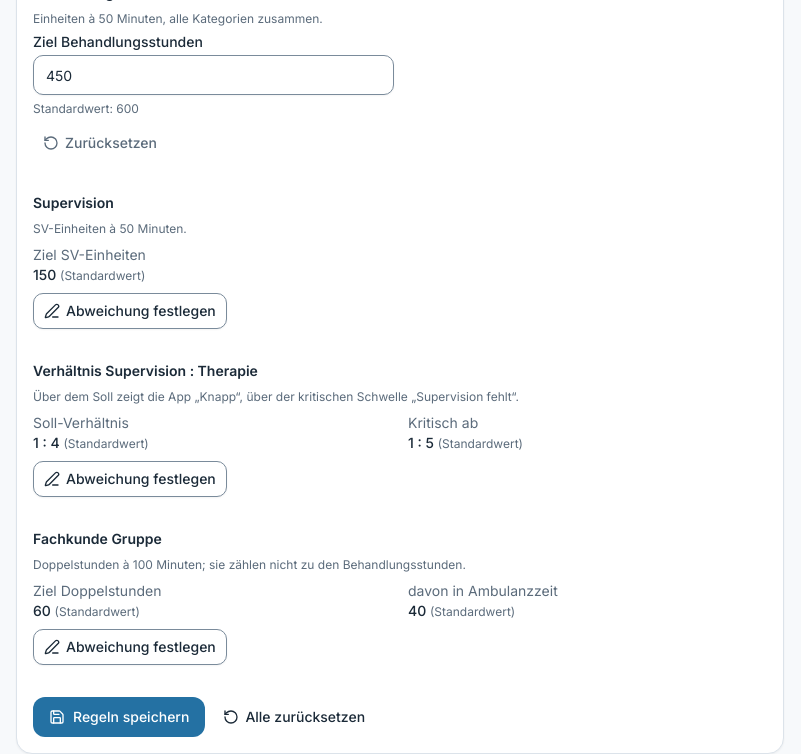
Test: RegelAbweichungenForm › nennt nach dem Zurücksetzen ohne Instanzprofil die Standardwerte
(page scrolled)
Click the button "Alle zurücksetzen": (294, 717) [213, 699, 375, 735]
(page scrolled)
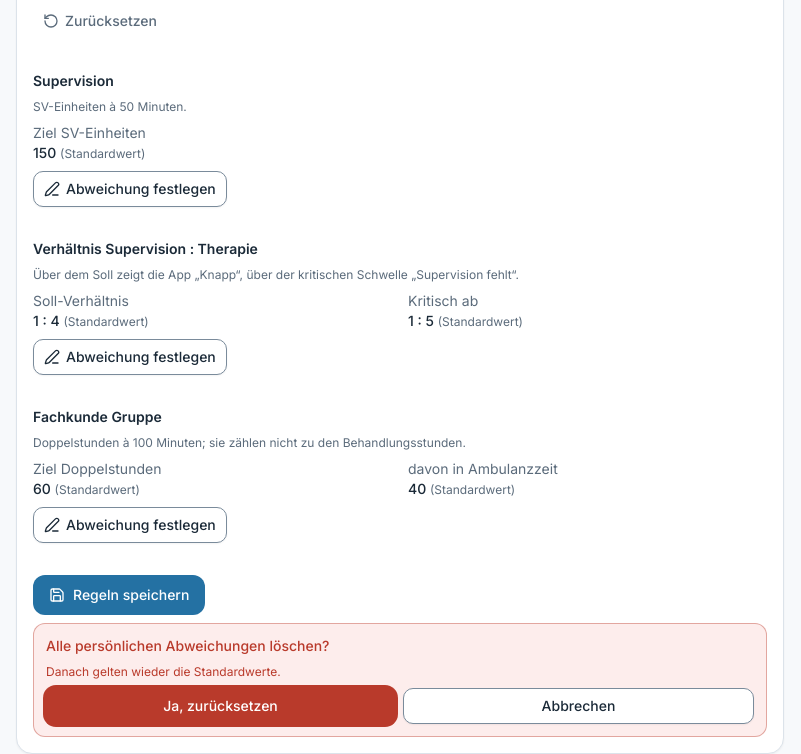
Click the button "Ja, zurücksetzen": (220, 706) [46, 688, 395, 724]
(page scrolled)
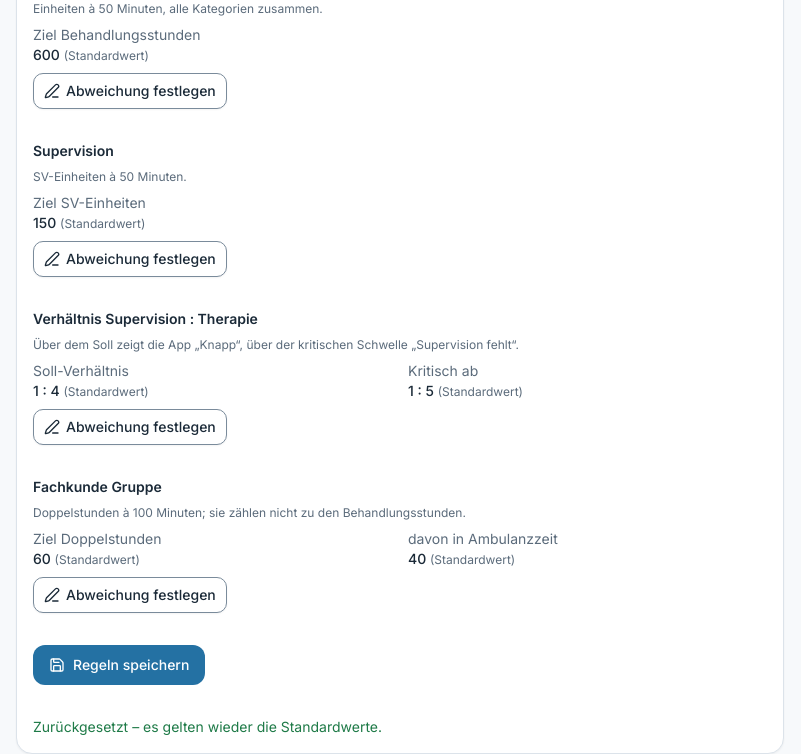
Expected: the message reads "Zurückgesetzt – es gelten wieder die Standardwerte.", [33, 718, 382, 735]
